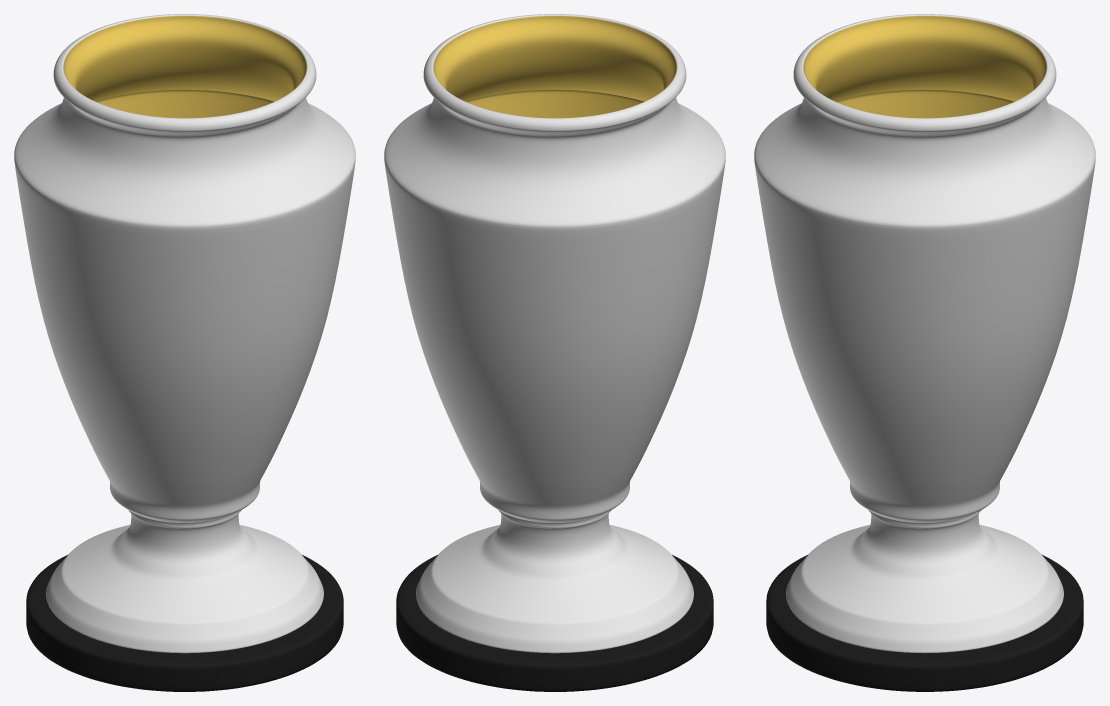
Rendered from champions.glb.
The picture shows the model from 3 angles, left to right: view 1: azimuth 30°, elevation 25°; view 2: azimuth 150°, elevation 25°; view 3: azimuth 270°, elevation 25°; orthographic projection.
Visible parts, largest first — view 1: The Champions League; view 2: The Champions League; view 3: The Champions League.
Part boxes in pixels (left/top/right/bottom): The Champions League: left=14, top=14, right=355, bottom=691; The Champions League: left=384, top=14, right=725, bottom=691; The Champions League: left=754, top=14, right=1095, bottom=691.
Size of the model in its own units: 0.6355 by 1.15 by 0.6355.
